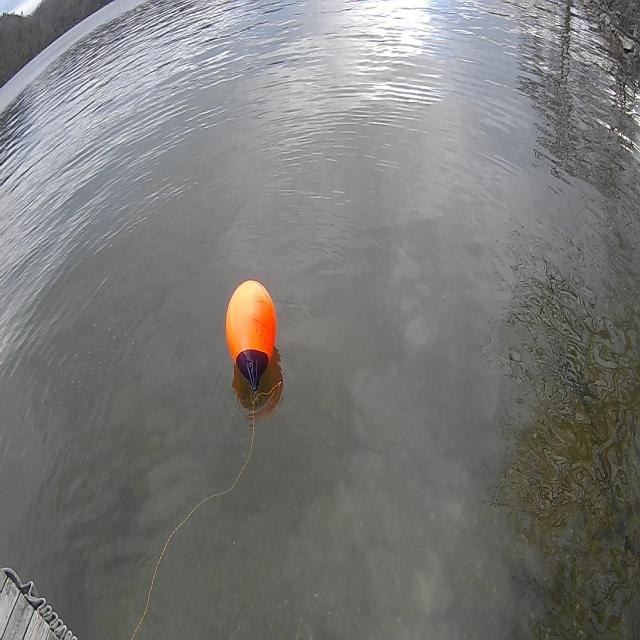Buoy: (223, 275, 280, 396)
